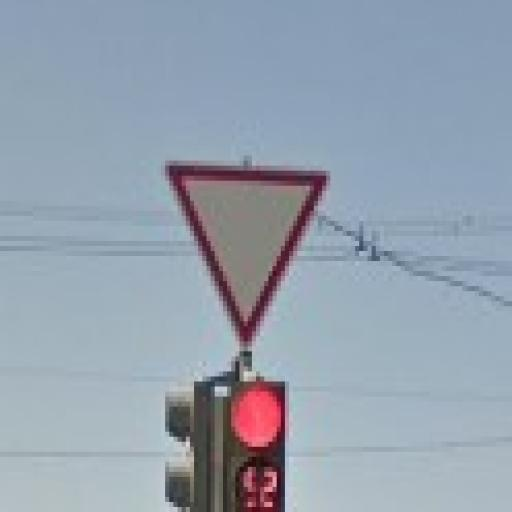traffic_sign: (166, 162, 331, 347)
